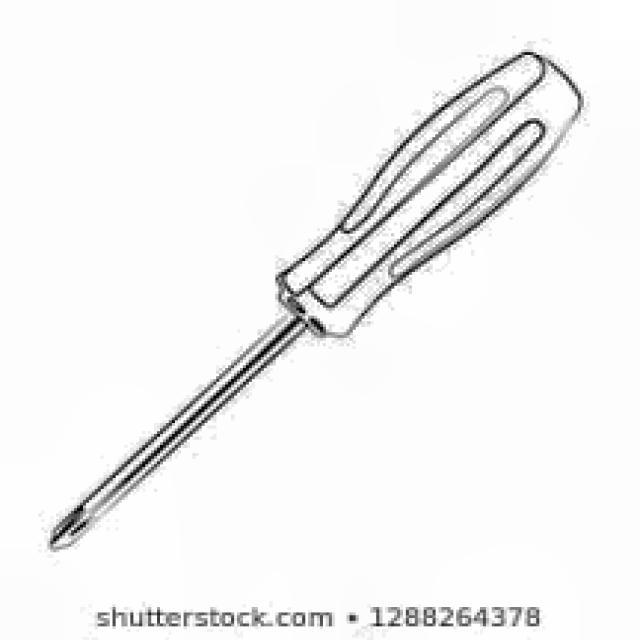screwdriver: (51, 55, 578, 548)
